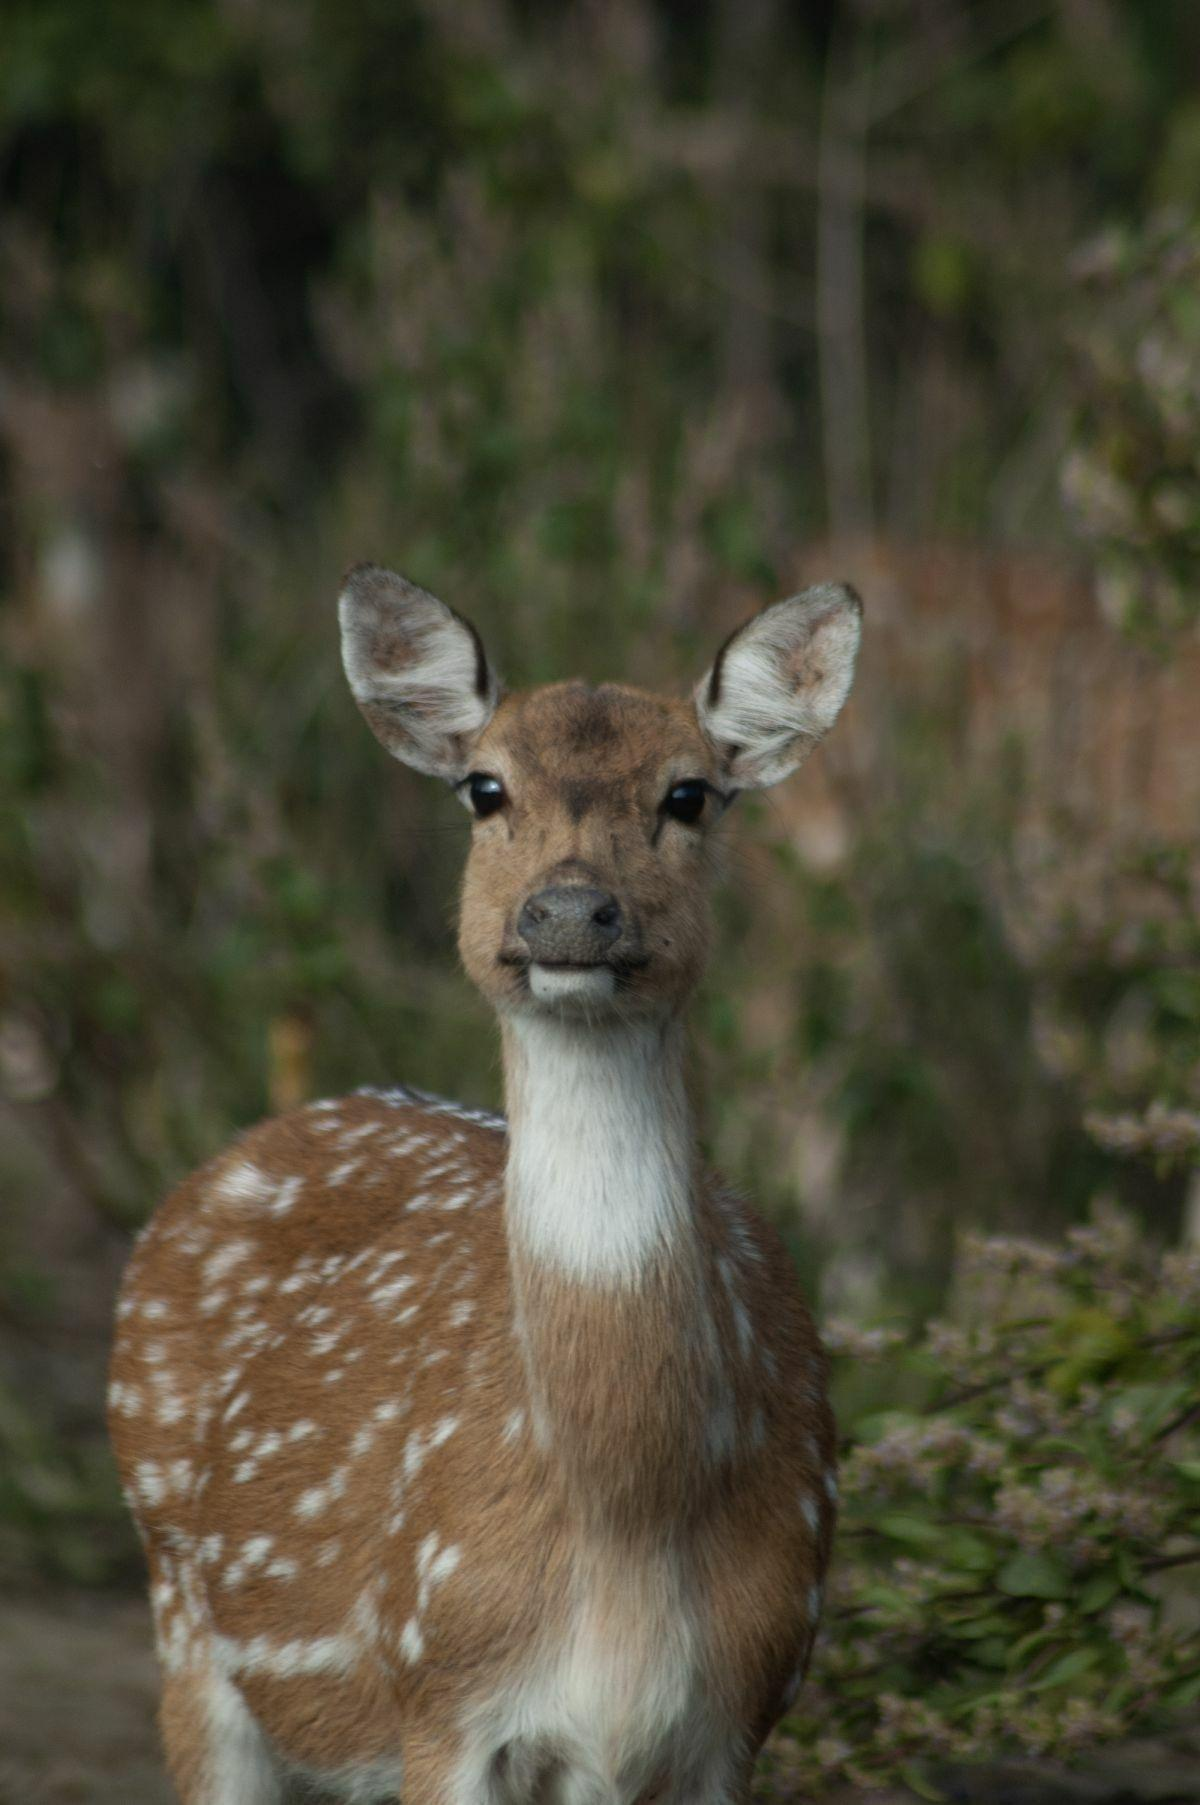Deer: (108, 566, 858, 1804)
